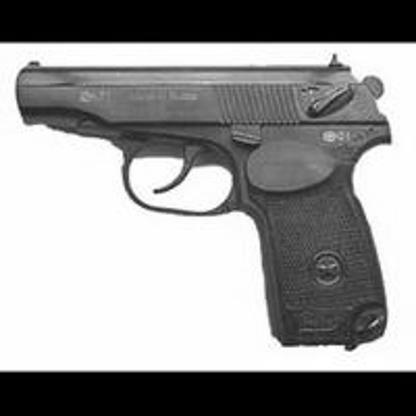weapon: (15, 49, 392, 350)
